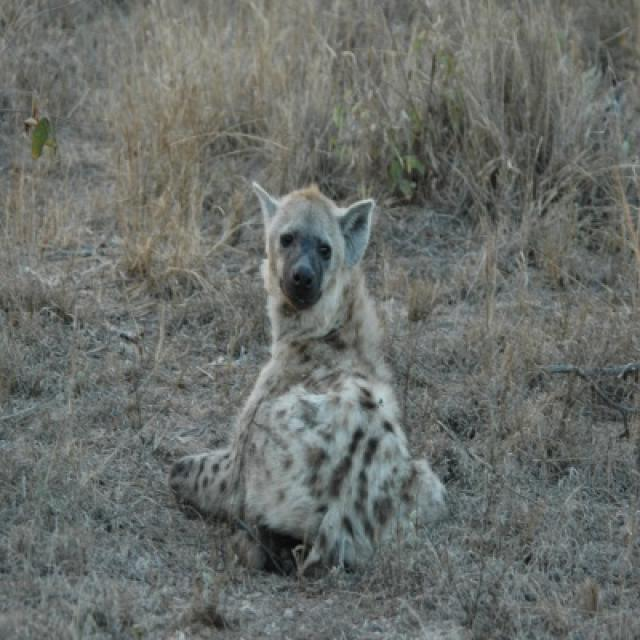hyena: (170, 181, 445, 570)
